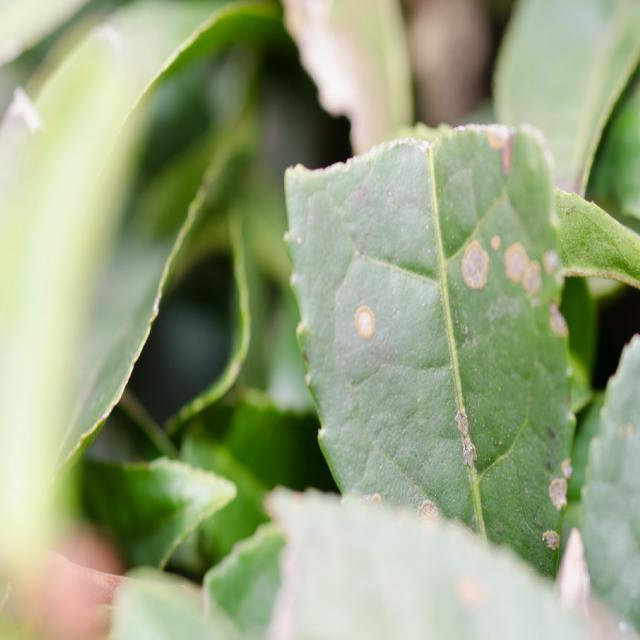Tea algae leaf spot: (337, 171, 602, 527)
